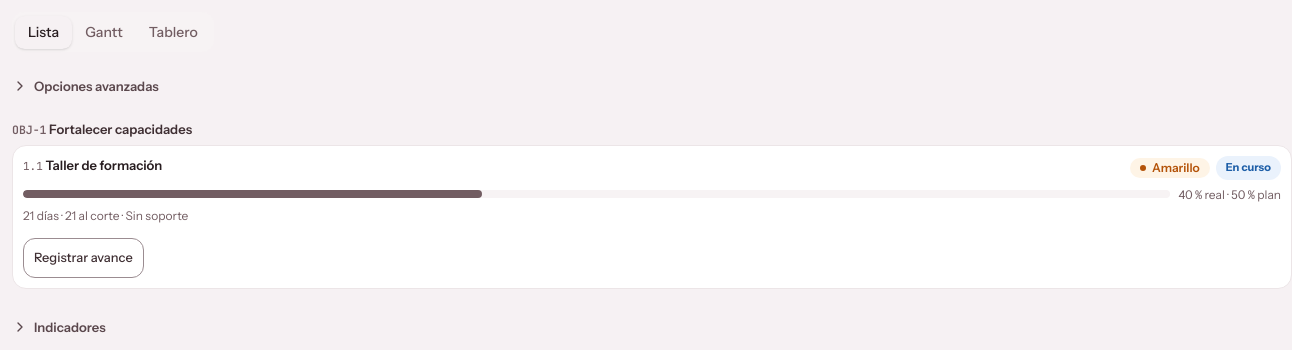
Test: FichaActividades › Tablero card › opens the Lista and focuses the activity row
The image size is (1292, 350).
Expected: the list item with test id "ejecucion-actividad" is shown, x1=12 y1=145 x2=1291 y2=289
Click the tab "Tablero" at (173, 32), box x1=136 y1=16 x2=211 y2=48
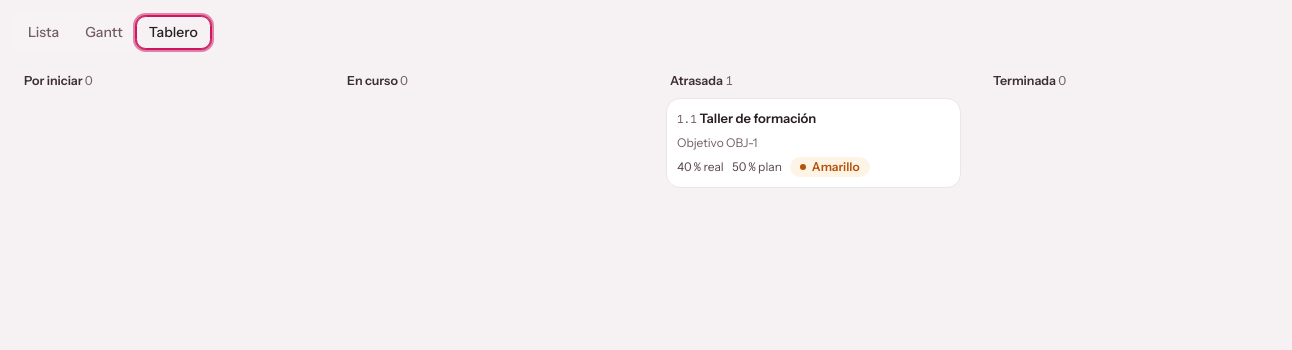
Click the button "Taller de formación" at (758, 118), box x1=666 y1=98 x2=961 y2=188
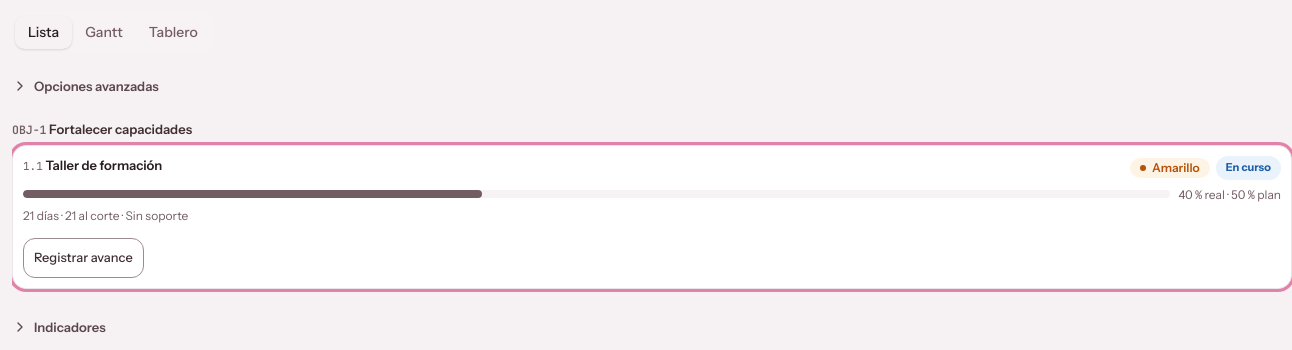
Result: the element with test id "tablero" is gone
